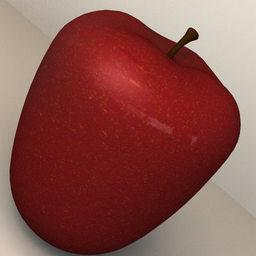apple: (3, 9, 241, 253)
